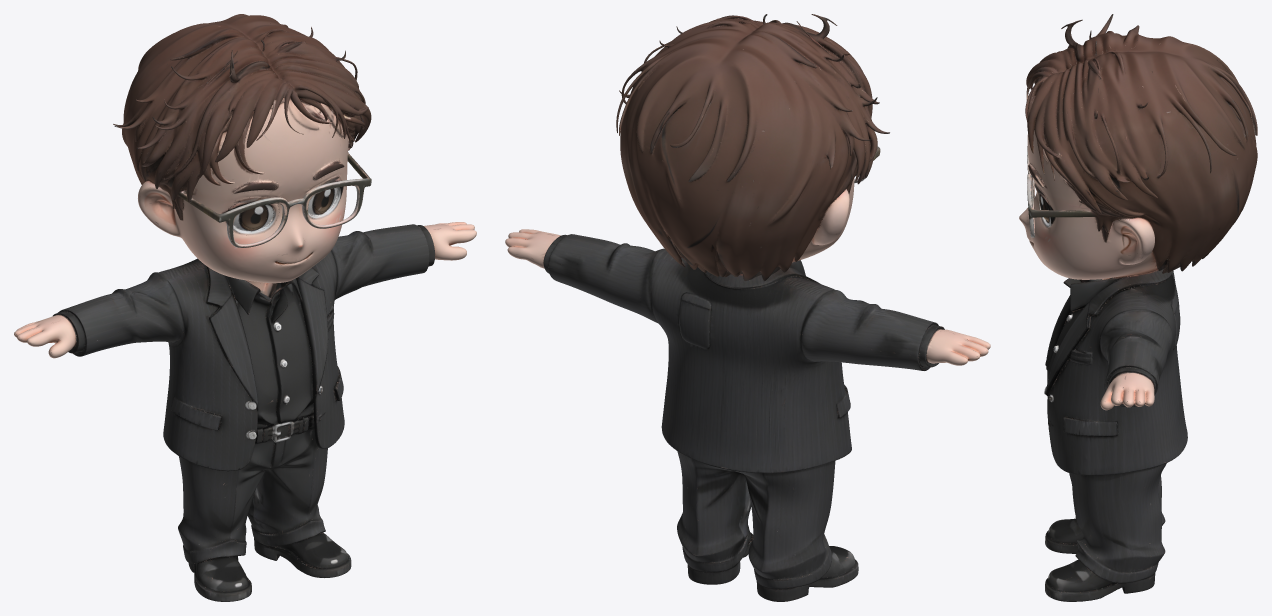
File: ore.glb
The picture shows the model from 3 angles, left to right: view 1: azimuth 30°, elevation 25°; view 2: azimuth 150°, elevation 25°; view 3: azimuth 270°, elevation 25°; orthographic projection. The views are drawn at different scales.
Bounding box in the file's own units: 1.79 × 2 × 0.8168.
1 material, 1 textured.
